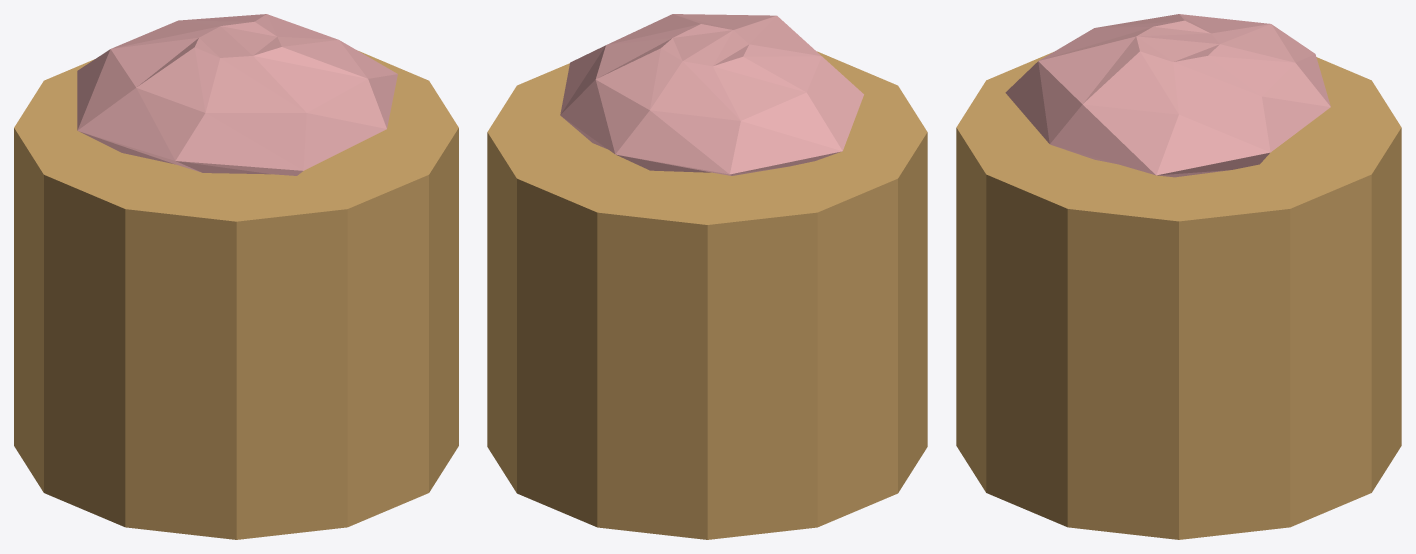
The model's file is SM_Pinball_Peg.fbx.
3 views of the same model, side by side, from view 1: azimuth 30°, elevation 25°; view 2: azimuth 150°, elevation 25°; view 3: azimuth 270°, elevation 25° (orthographic).
Visible parts, largest first — view 1: SM_Pinball_Peg; view 2: SM_Pinball_Peg; view 3: SM_Pinball_Peg.
Boxes of the visible parts, x1,y1,x2,y2 form: SM_Pinball_Peg: (14,14,458,539); SM_Pinball_Peg: (487,14,927,539); SM_Pinball_Peg: (956,14,1401,539).
Bounding box in the file's own units: 38 × 38 × 38.36.
